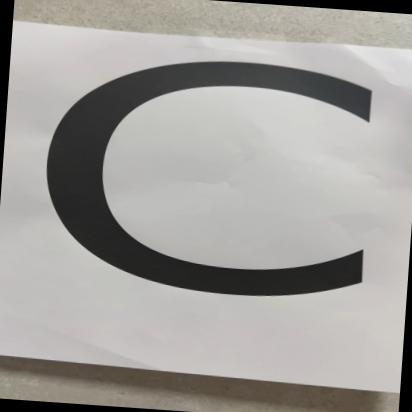seat: (0, 17, 412, 378)
